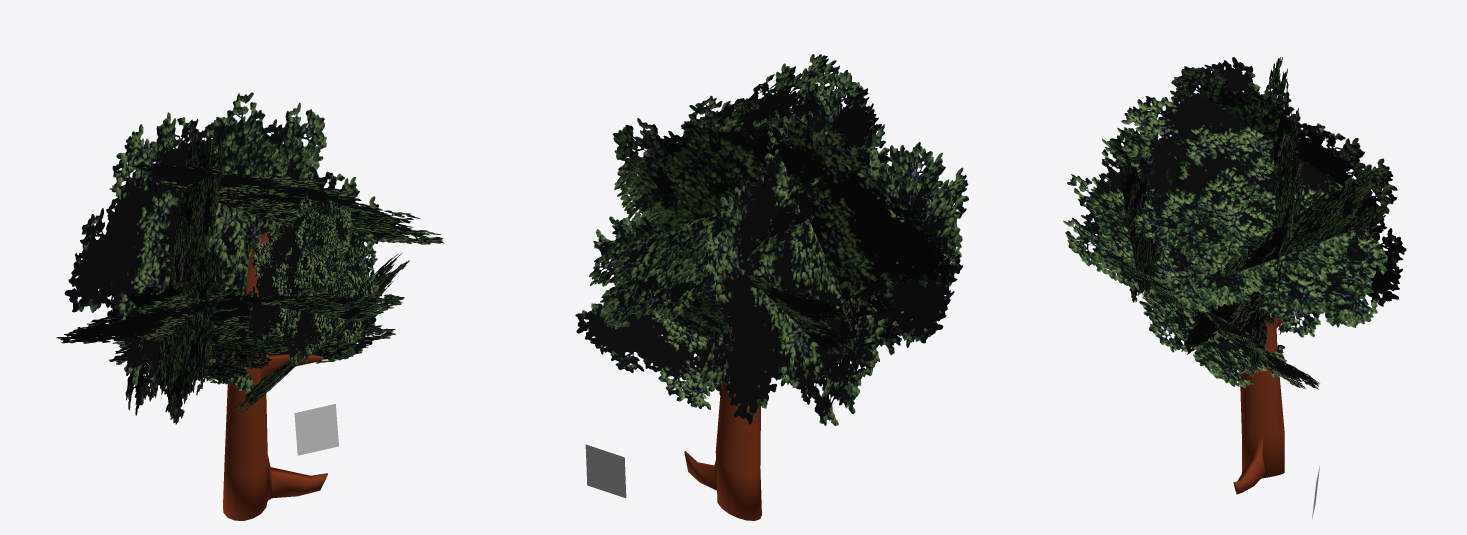
The model's file is TreeAndGrass.fbx.
The picture shows the model from 3 angles, left to right: view 1: azimuth 30°, elevation 25°; view 2: azimuth 150°, elevation 25°; view 3: azimuth 270°, elevation 25°; orthographic projection. The views are drawn at different scales.
Visible parts, largest first — view 1: Cylinder.007, Plane.018; view 2: Cylinder.007, Plane.018; view 3: Cylinder.007.
Boxes of the visible parts, bbox=[...] form: Cylinder.007: bbox=[56, 92, 443, 520]; Plane.018: bbox=[294, 404, 338, 455]; Cylinder.007: bbox=[575, 54, 968, 520]; Plane.018: bbox=[585, 444, 626, 498]; Cylinder.007: bbox=[1063, 57, 1406, 494].
Size of the model in its own units: 10905 by 11731 by 9938.
